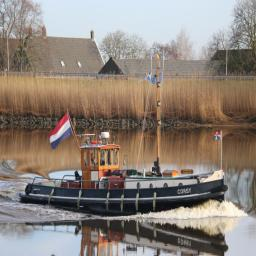tugboat: (18, 132, 230, 223)
